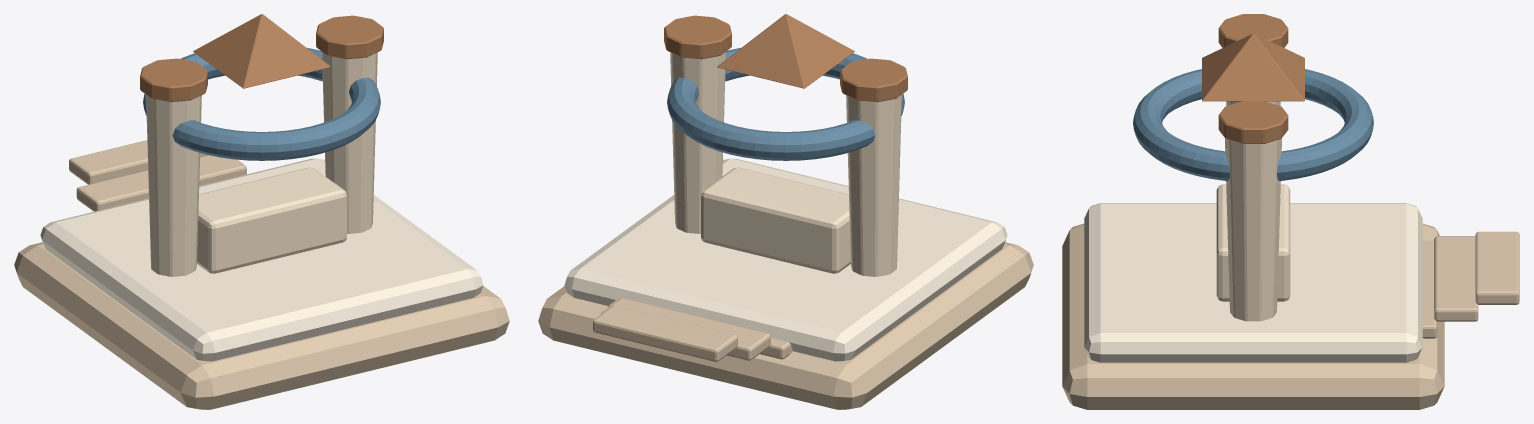
Rendered from gate_flow.glb.
3 views of the same model, side by side, from view 1: azimuth 30°, elevation 25°; view 2: azimuth 150°, elevation 25°; view 3: azimuth 270°, elevation 25° (orthographic).
Visible parts, largest first — view 1: gate_flow; view 2: gate_flow; view 3: gate_flow.
Part boxes in pixels (x1=…): gate_flow: x1=14, y1=14, x2=509, y2=409; gate_flow: x1=538, y1=14, x2=1033, y2=409; gate_flow: x1=1062, y1=14, x2=1519, y2=409.
Size of the model in its own units: 2.6 by 2.29 by 3.11.
